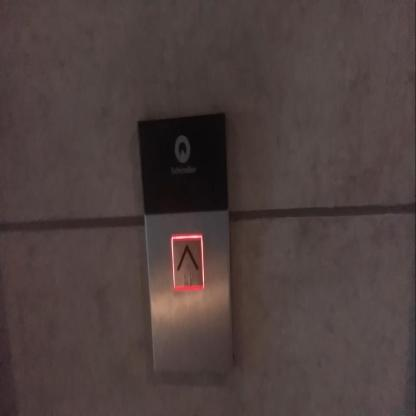up: (169, 232, 206, 292)
